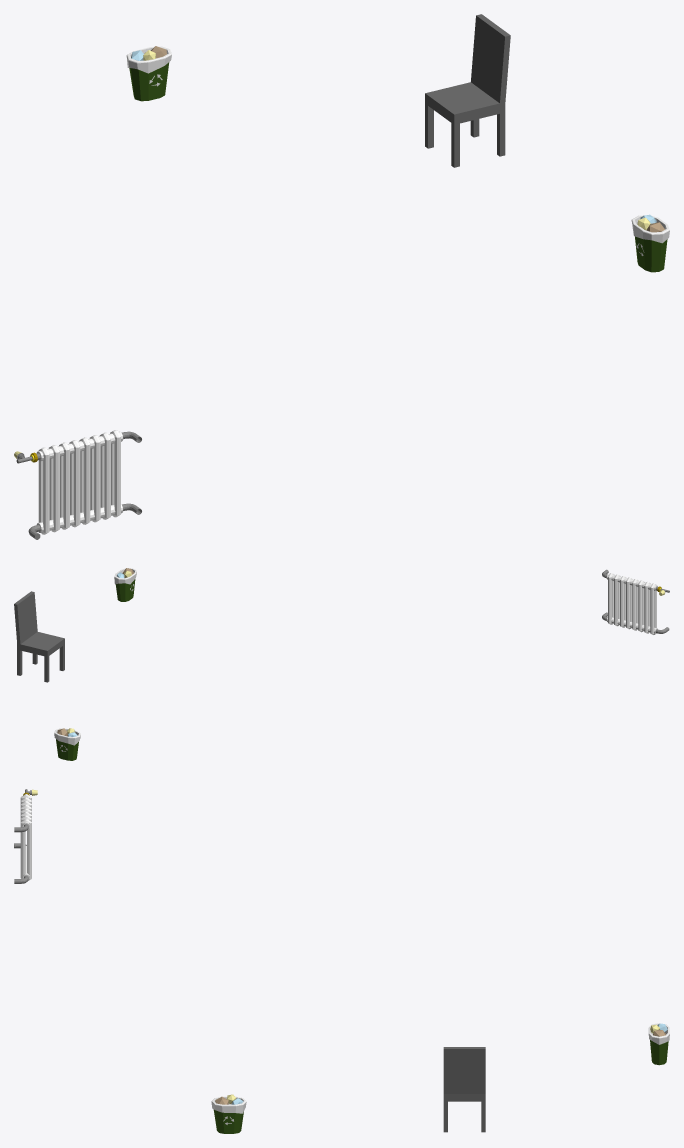
File: d2x2Shape Sampleroom - Deko.glb
3 renders of one model, top to bottom at view 1: azimuth 30°, elevation 25°; view 2: azimuth 150°, elevation 25°; view 3: azimuth 270°, elevation 25°, orthographic. The views are drawn at different scales.
Visible parts, largest first — view 1: Deko_2x2 campus; view 2: Deko_2x2 campus; view 3: Deko_2x2 campus.
Boxes of the visible parts, box(x1,y1,x2,y2) form: Deko_2x2 campus: box(14, 14, 669, 539); Deko_2x2 campus: box(14, 568, 669, 760); Deko_2x2 campus: box(14, 789, 669, 1133).
Bounding box in the file's own units: 7.94 × 1.14 × 7.98.
Materials: 1 (1 with a texture image).
